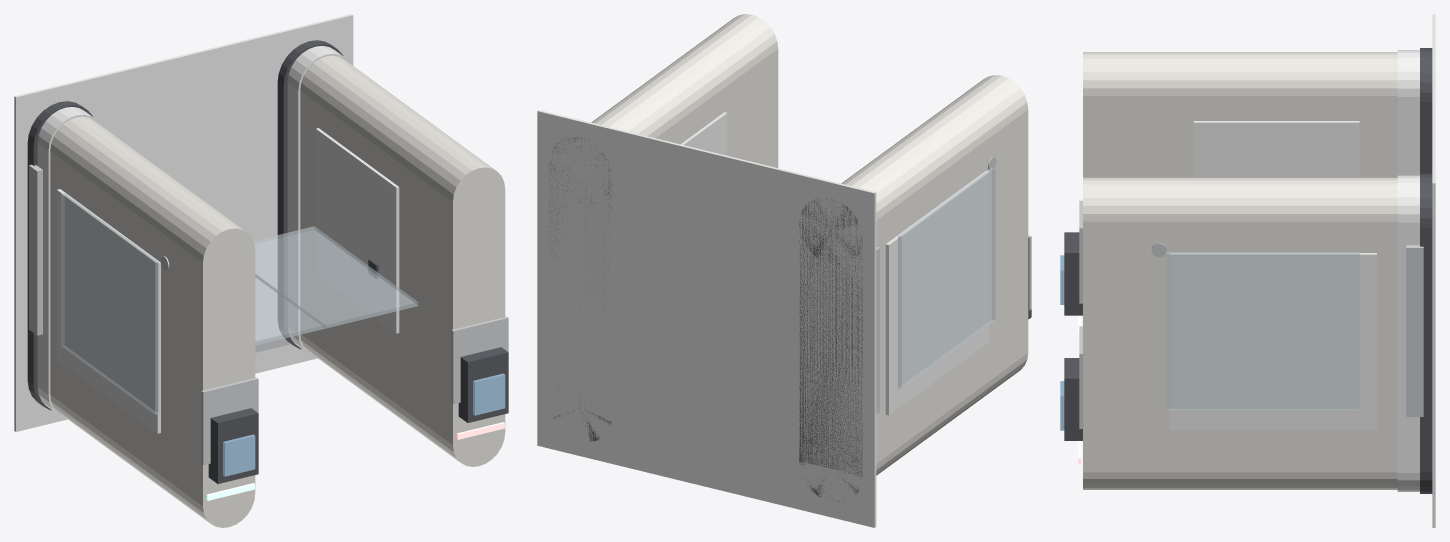
Rendered from Cửa sinh trắc học.glb.
The picture shows the model from 3 angles, left to right: view 1: azimuth 30°, elevation 25°; view 2: azimuth 150°, elevation 25°; view 3: azimuth 270°, elevation 25°; orthographic projection. The views are drawn at different scales.
Parts seen in each view (by area): view 1: gate_pillar_right_body_shell, gate_pillar_left_body_shell, lane_floor_plate, gate_pillar_left_outer_panel, side_glass_panel_left, gate_pillar_right_inner_panel, glass_barrier_right, gate_pillar_right_bottom_wrap, gate_pillar_left_bottom_wrap, gate_pillar_right_plinth, glass_barrier_left, side_glass_support_left (+7 smaller); view 2: lane_floor_plate, gate_pillar_left_body_shell, gate_pillar_right_body_shell, gate_pillar_left_outer_panel, side_glass_panel_left, gate_pillar_left_plinth, gate_pillar_right_inner_panel, side_glass_support_left; view 3: gate_pillar_right_body_shell, gate_pillar_right_outer_panel, side_glass_panel_right, gate_pillar_left_body_shell, gate_pillar_left_inner_panel, gate_pillar_right_bottom_wrap, gate_pillar_right_plinth, side_glass_support_right, gate_pillar_left_bottom_wrap, lane_floor_plate, gate_pillar_left_plinth, gate_pillar_left_scanner_base (+2 smaller).
Boxes of the visible parts, <box> form: gate_pillar_right_body_shell: <box>300,55,505,466</box>; gate_pillar_left_body_shell: <box>50,116,255,527</box>; lane_floor_plate: <box>14,14,353,431</box>; gate_pillar_left_outer_panel: <box>57,189,160,433</box>; side_glass_panel_left: <box>61,193,158,414</box>; gate_pillar_right_inner_panel: <box>315,128,399,333</box>; glass_barrier_right: <box>253,226,418,328</box>; gate_pillar_right_bottom_wrap: <box>287,46,350,356</box>; gate_pillar_left_bottom_wrap: <box>37,107,100,417</box>; gate_pillar_right_plinth: <box>277,40,343,349</box>; glass_barrier_left: <box>255,274,325,345</box>; side_glass_support_left: <box>29,164,42,335</box>; lane_floor_plate: <box>537,110,876,527</box>; gate_pillar_left_body_shell: <box>804,75,1028,496</box>; gate_pillar_right_body_shell: <box>555,14,778,437</box>; gate_pillar_left_outer_panel: <box>885,170,989,415</box>; side_glass_panel_left: <box>898,167,995,388</box>; gate_pillar_left_plinth: <box>799,198,862,501</box>; gate_pillar_right_inner_panel: <box>681,112,727,155</box>; side_glass_support_left: <box>876,247,879,414</box>; gate_pillar_right_body_shell: <box>1083,177,1397,489</box>; gate_pillar_right_outer_panel: <box>1169,253,1376,429</box>; side_glass_panel_right: <box>1166,252,1359,410</box>; gate_pillar_left_body_shell: <box>1083,52,1397,177</box>; gate_pillar_left_inner_panel: <box>1193,121,1359,177</box>; gate_pillar_right_bottom_wrap: <box>1397,175,1419,491</box>; gate_pillar_right_plinth: <box>1420,173,1432,493</box>; side_glass_support_right: <box>1406,245,1423,416</box>; gate_pillar_left_bottom_wrap: <box>1397,50,1419,175</box>; lane_floor_plate: <box>1432,14,1435,527</box>; gate_pillar_left_plinth: <box>1420,48,1432,173</box>; gate_pillar_left_scanner_base: <box>1064,232,1082,315</box>.
Bounding box in the file's own units: 1.16 × 1.1 × 1.09.
